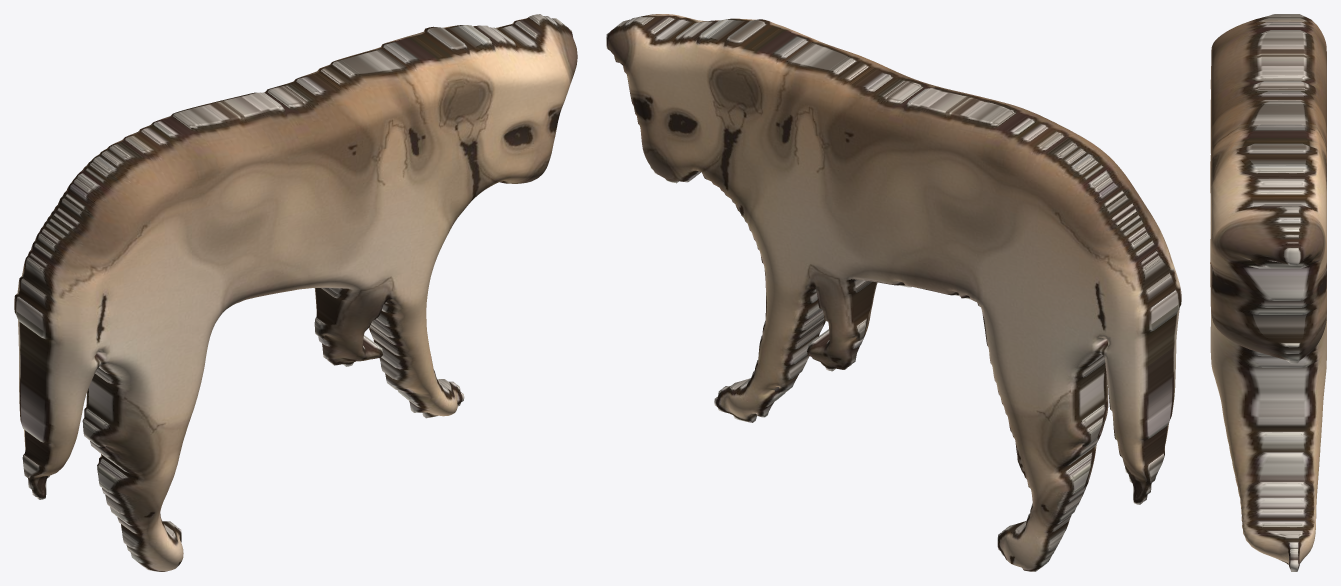
Rendered from domestic_dog_251913625.glb.
The picture shows the model from 3 angles, left to right: view 1: azimuth 30°, elevation 25°; view 2: azimuth 150°, elevation 25°; view 3: azimuth 270°, elevation 25°; orthographic projection. The views are drawn at different scales.
Visible parts, largest first — view 1: domestic_dog_251913625; view 2: domestic_dog_251913625; view 3: domestic_dog_251913625.
Part boxes in pixels (x1=…): domestic_dog_251913625: x1=14, y1=14, x2=577, y2=571; domestic_dog_251913625: x1=606, y1=14, x2=1181, y2=571; domestic_dog_251913625: x1=1210, y1=14, x2=1326, y2=571.
Size of the model in its own units: 1.97 by 1.58 by 0.3302.
Materials: 1 (1 with a texture image).
